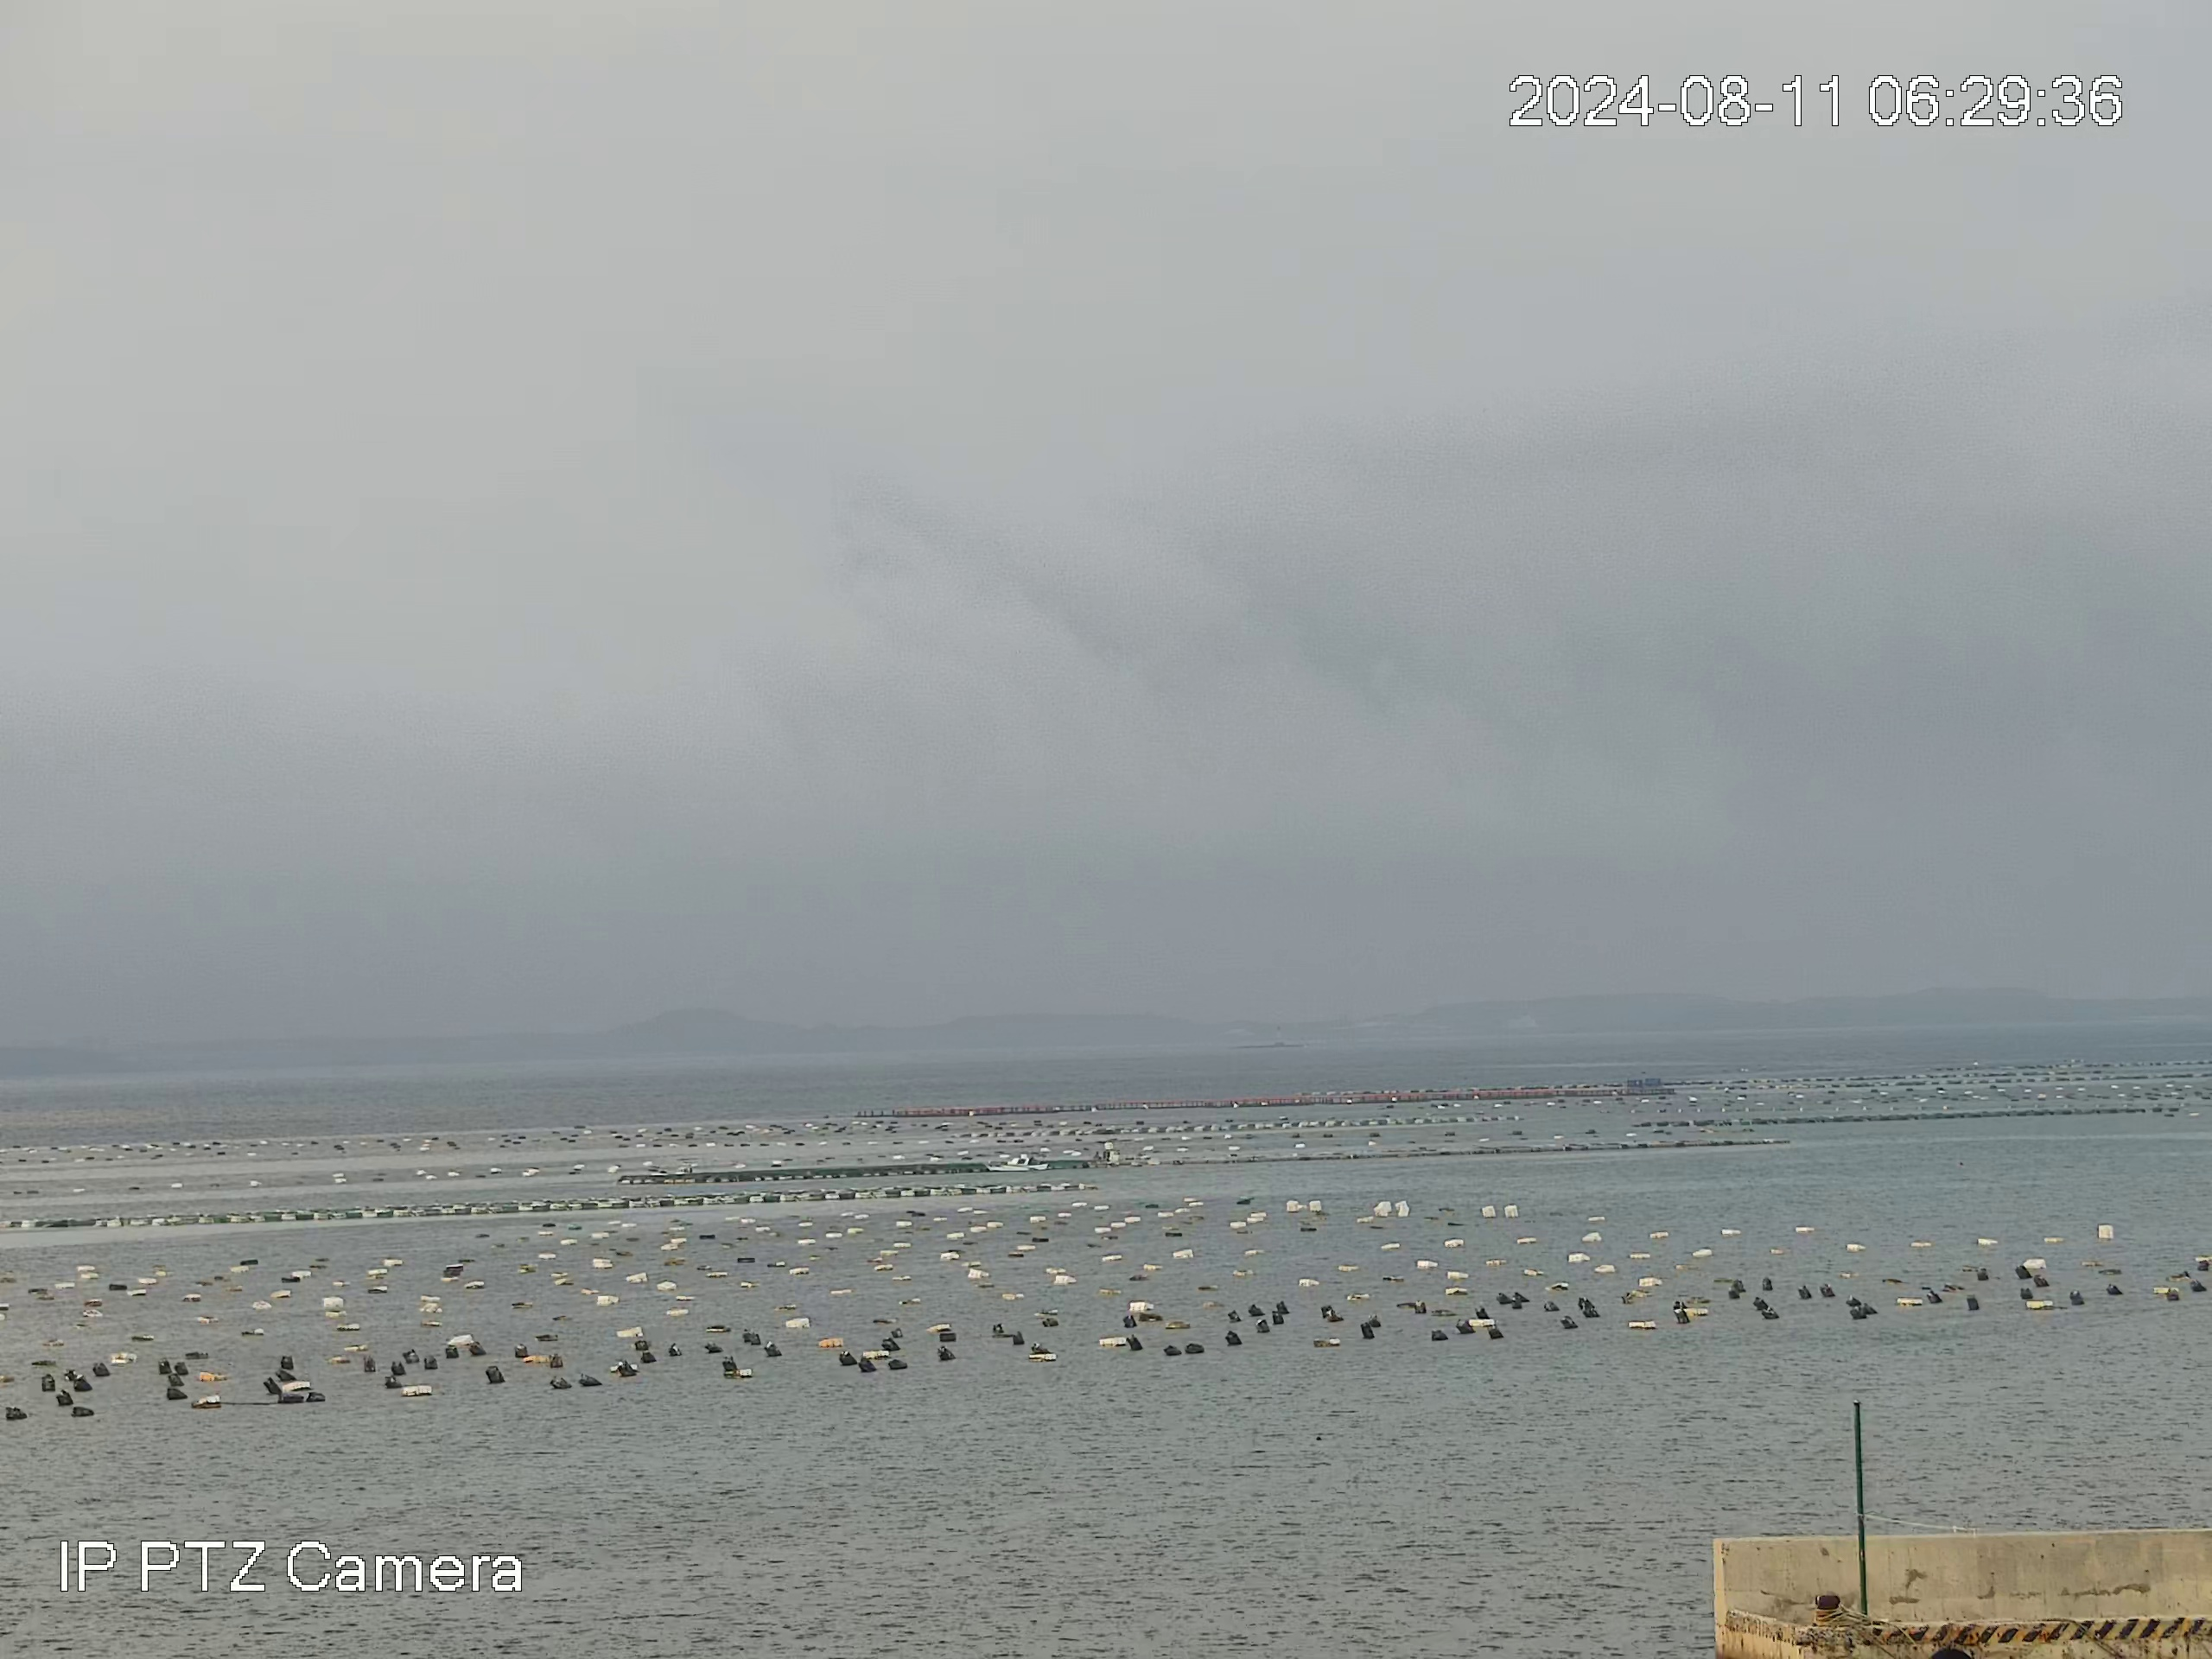boat: (982, 1152, 1049, 1173)
